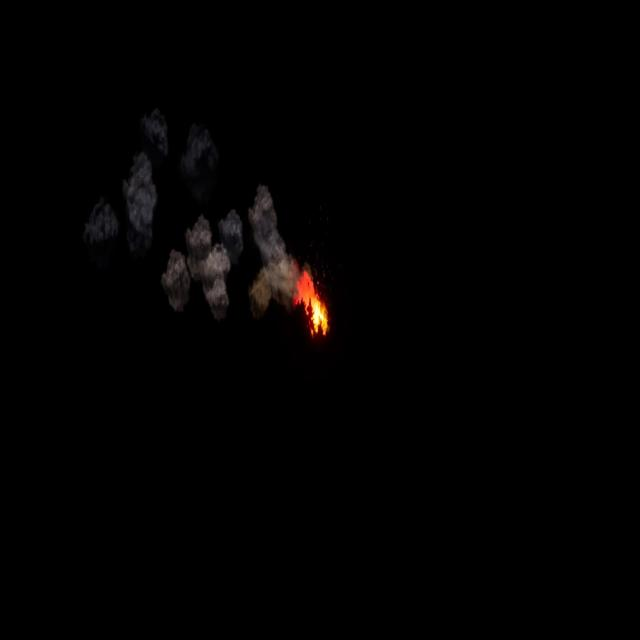fire: (296, 268, 333, 342)
smoke: (160, 186, 302, 306), (84, 114, 204, 246)
